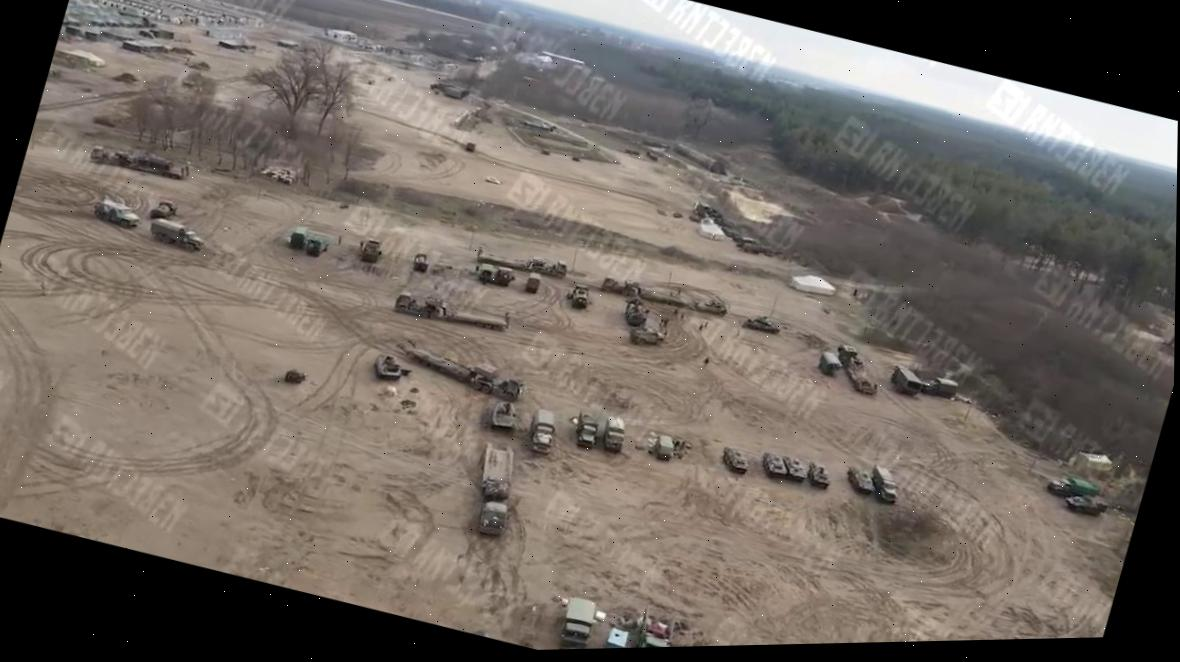armored_car: (88, 195, 144, 232), (626, 321, 667, 352)
car: (595, 624, 629, 649), (481, 172, 502, 190)
person: (696, 352, 711, 374), (693, 320, 705, 334), (0, 254, 7, 277), (661, 314, 671, 329), (730, 324, 740, 339), (656, 313, 664, 329), (676, 312, 685, 325), (702, 317, 710, 330), (334, 234, 342, 247)
tank: (1050, 486, 1120, 528), (128, 143, 176, 175), (743, 310, 792, 338), (485, 399, 520, 433), (842, 464, 877, 497), (756, 448, 790, 481), (775, 452, 811, 483), (717, 443, 751, 475), (801, 459, 834, 489), (371, 351, 403, 380)
truck: (387, 333, 531, 407), (455, 436, 525, 545), (390, 282, 512, 340), (82, 136, 190, 189), (474, 237, 568, 282), (598, 270, 690, 315), (826, 340, 885, 397), (551, 593, 600, 650), (144, 213, 209, 255), (1040, 466, 1102, 506), (626, 604, 681, 648), (522, 405, 560, 456), (864, 463, 904, 507), (886, 362, 925, 399), (352, 229, 388, 268), (615, 295, 652, 331), (561, 277, 595, 315), (597, 414, 629, 454), (570, 409, 602, 449), (919, 372, 959, 402), (486, 263, 515, 297), (305, 228, 335, 259), (815, 349, 843, 379), (282, 221, 310, 251), (516, 267, 544, 297), (651, 432, 676, 462), (467, 260, 494, 287), (406, 249, 430, 274)
